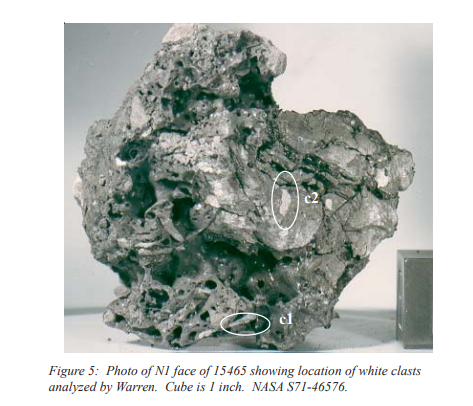Breccia: (74, 22, 393, 347)
